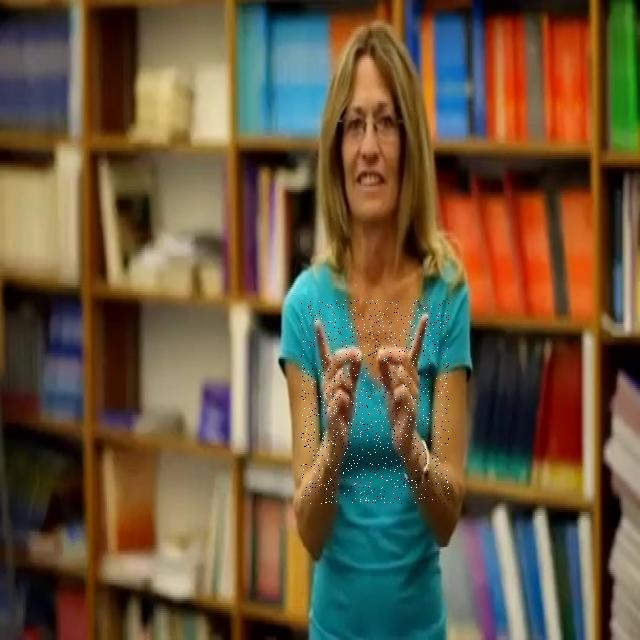sweet: (302, 300, 449, 504)
